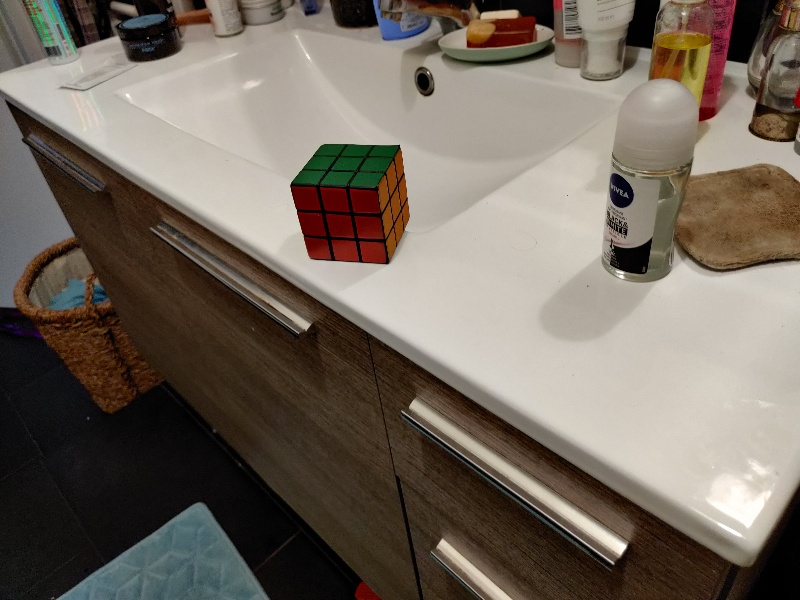rubik: (291, 143, 413, 267)
